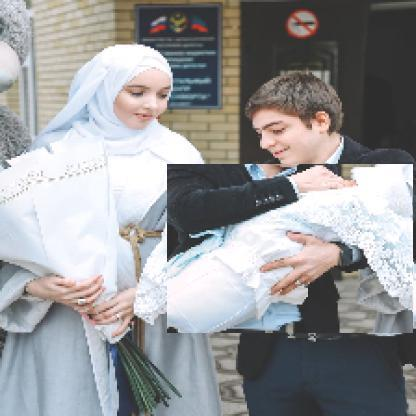child: (168, 165, 415, 336)
